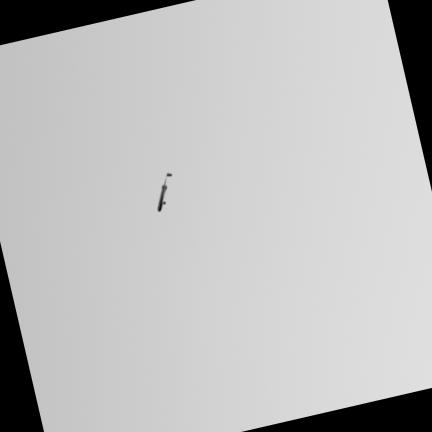Shahed: (157, 173, 172, 210)
